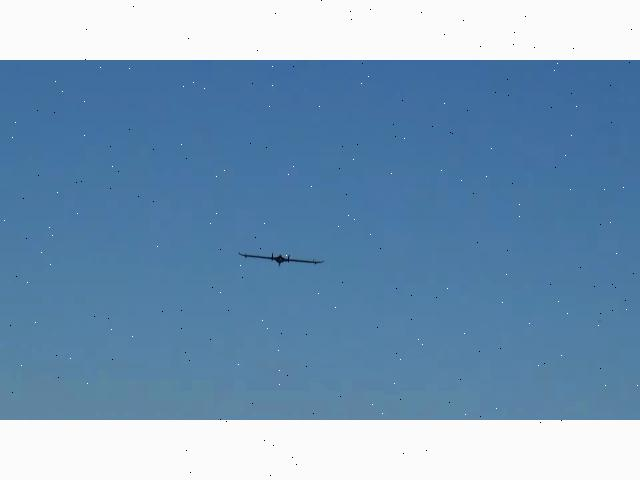Anti-Drone: (224, 239, 340, 277)
